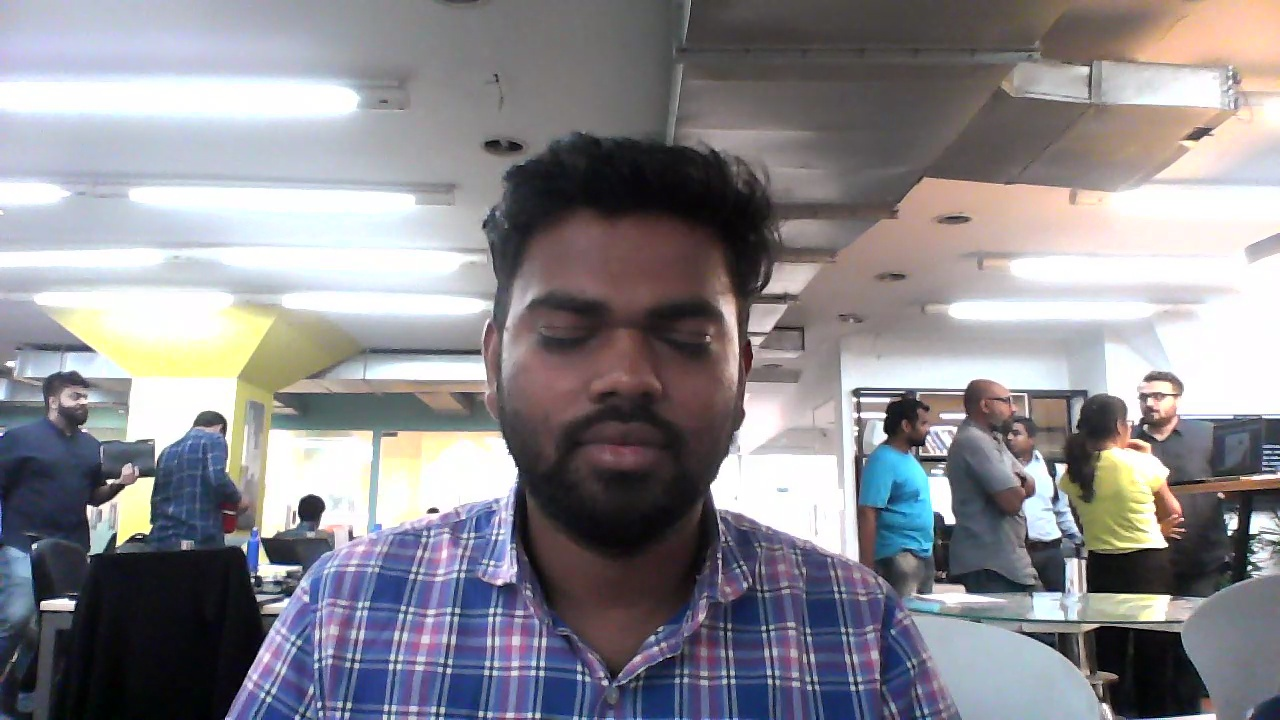closed: (482, 136, 765, 558)
